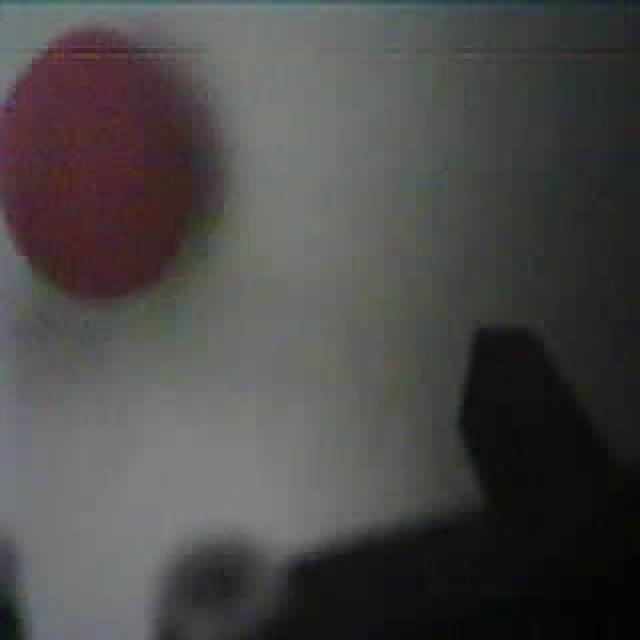red_ball: (0, 22, 220, 310)
